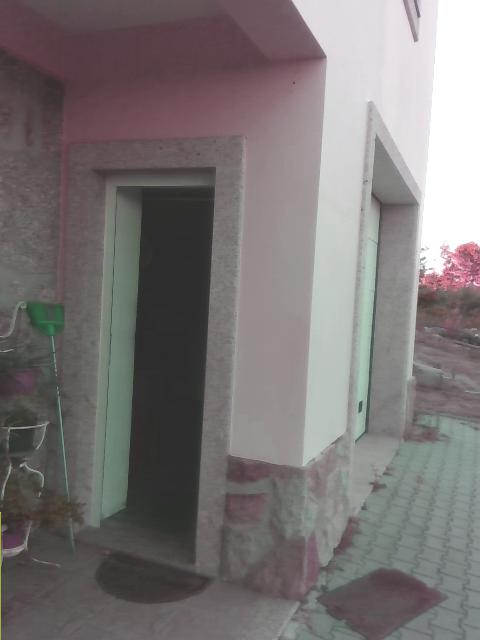open_door: (90, 166, 220, 566)
